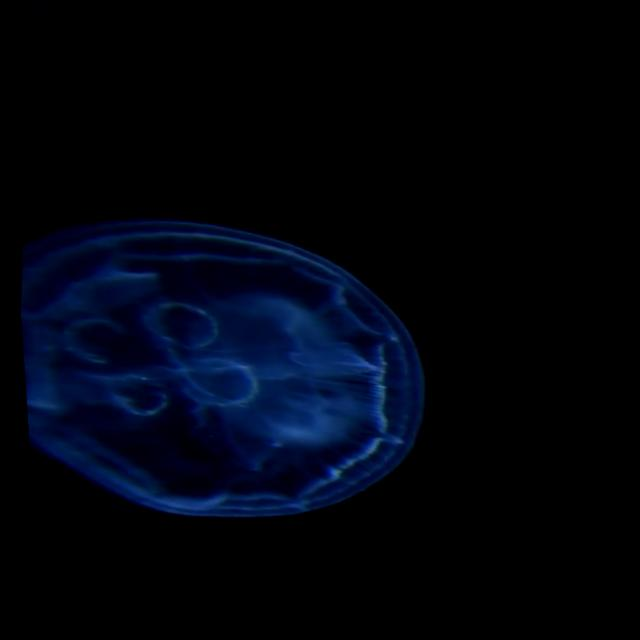Moon-jellyfish: (16, 214, 420, 518)
